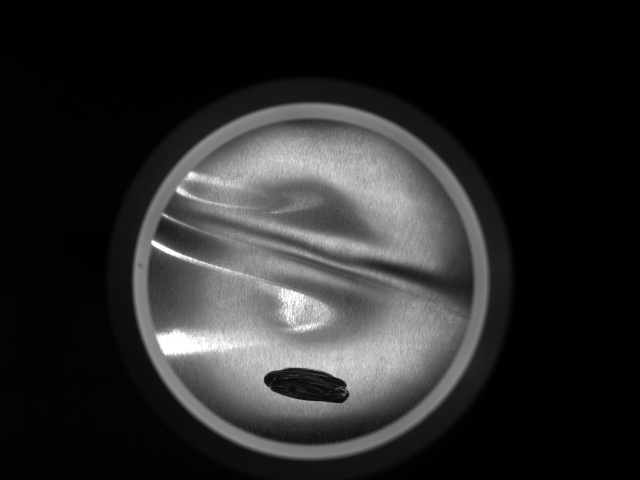zang_wu: (260, 366, 351, 406)
zhe_zhou: (190, 149, 432, 411)
